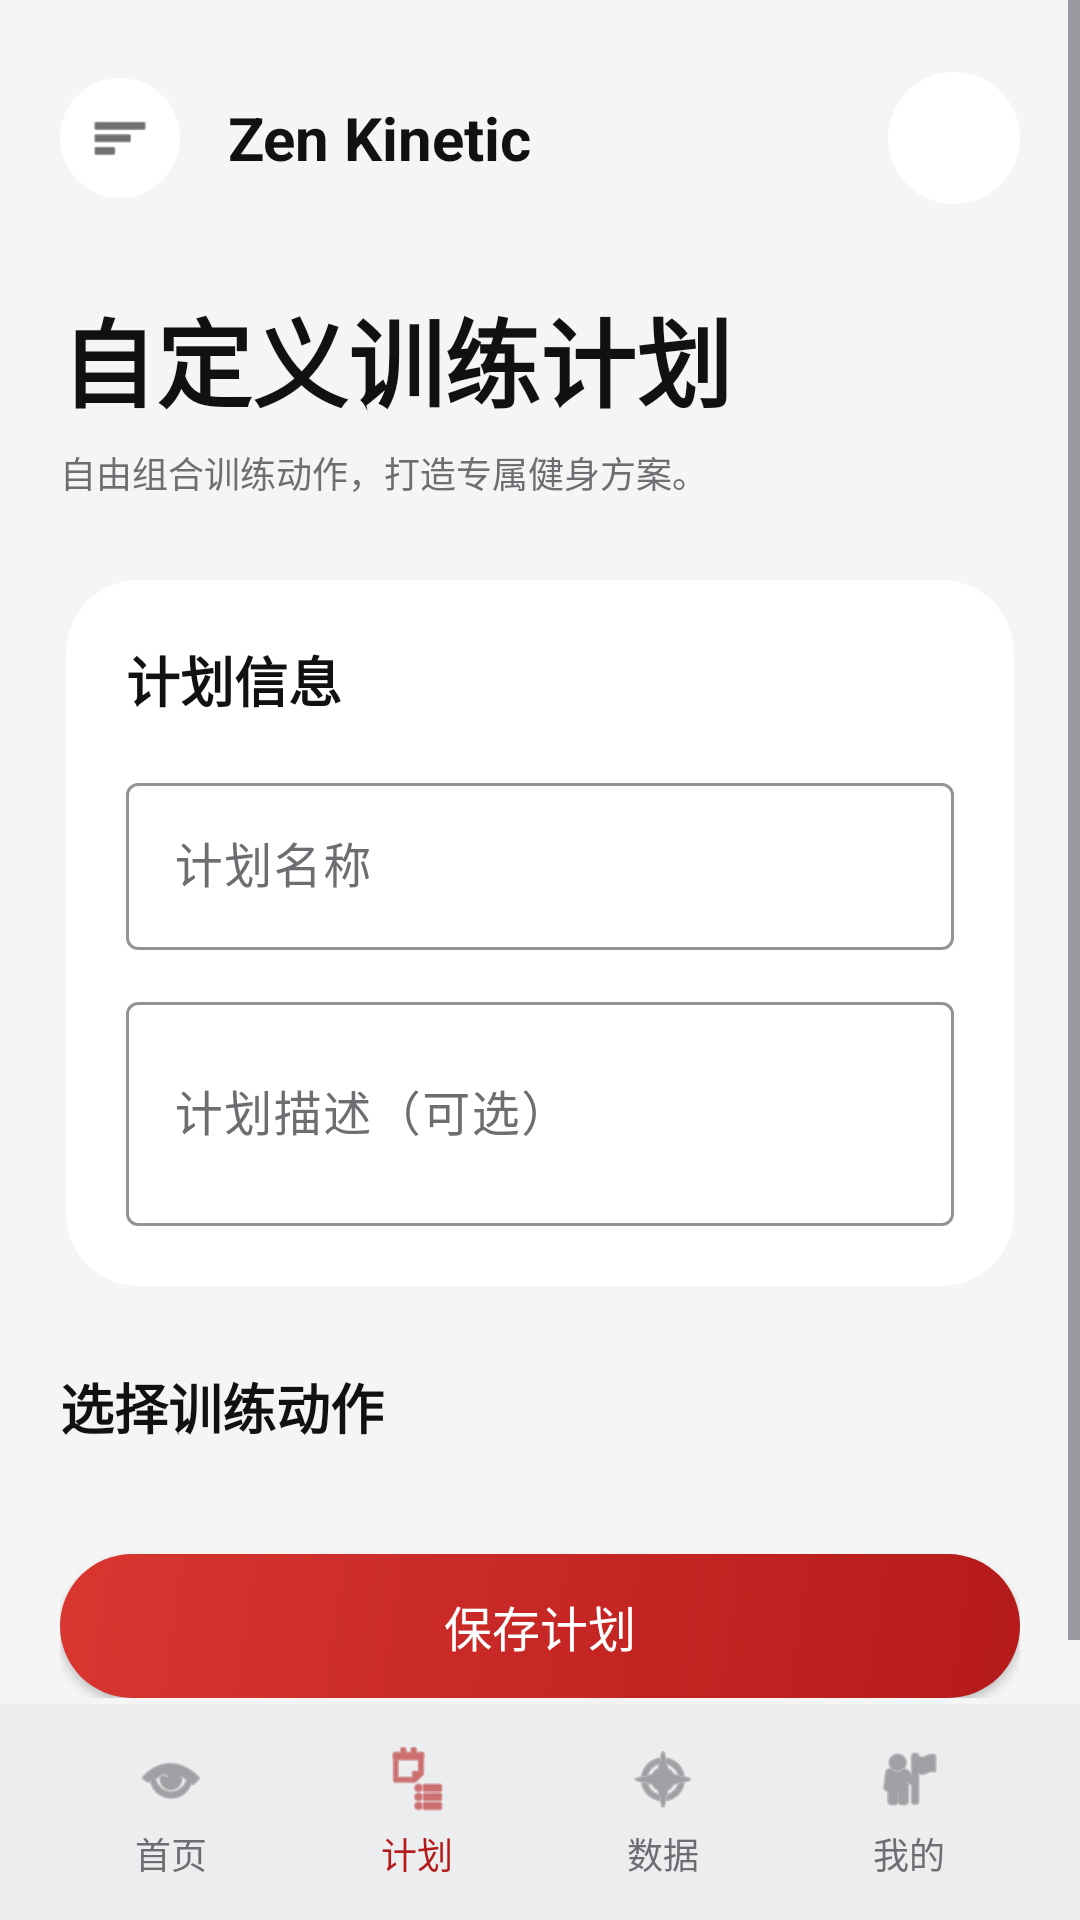

Point at icon controls on the screen. Image size 1080px×1920px, points as point (x, y).
agenda: point (417, 1779)
compass: point (662, 1779)
myplaces: point (910, 1779)
sort by size: point (120, 138)
view: point (171, 1781)
